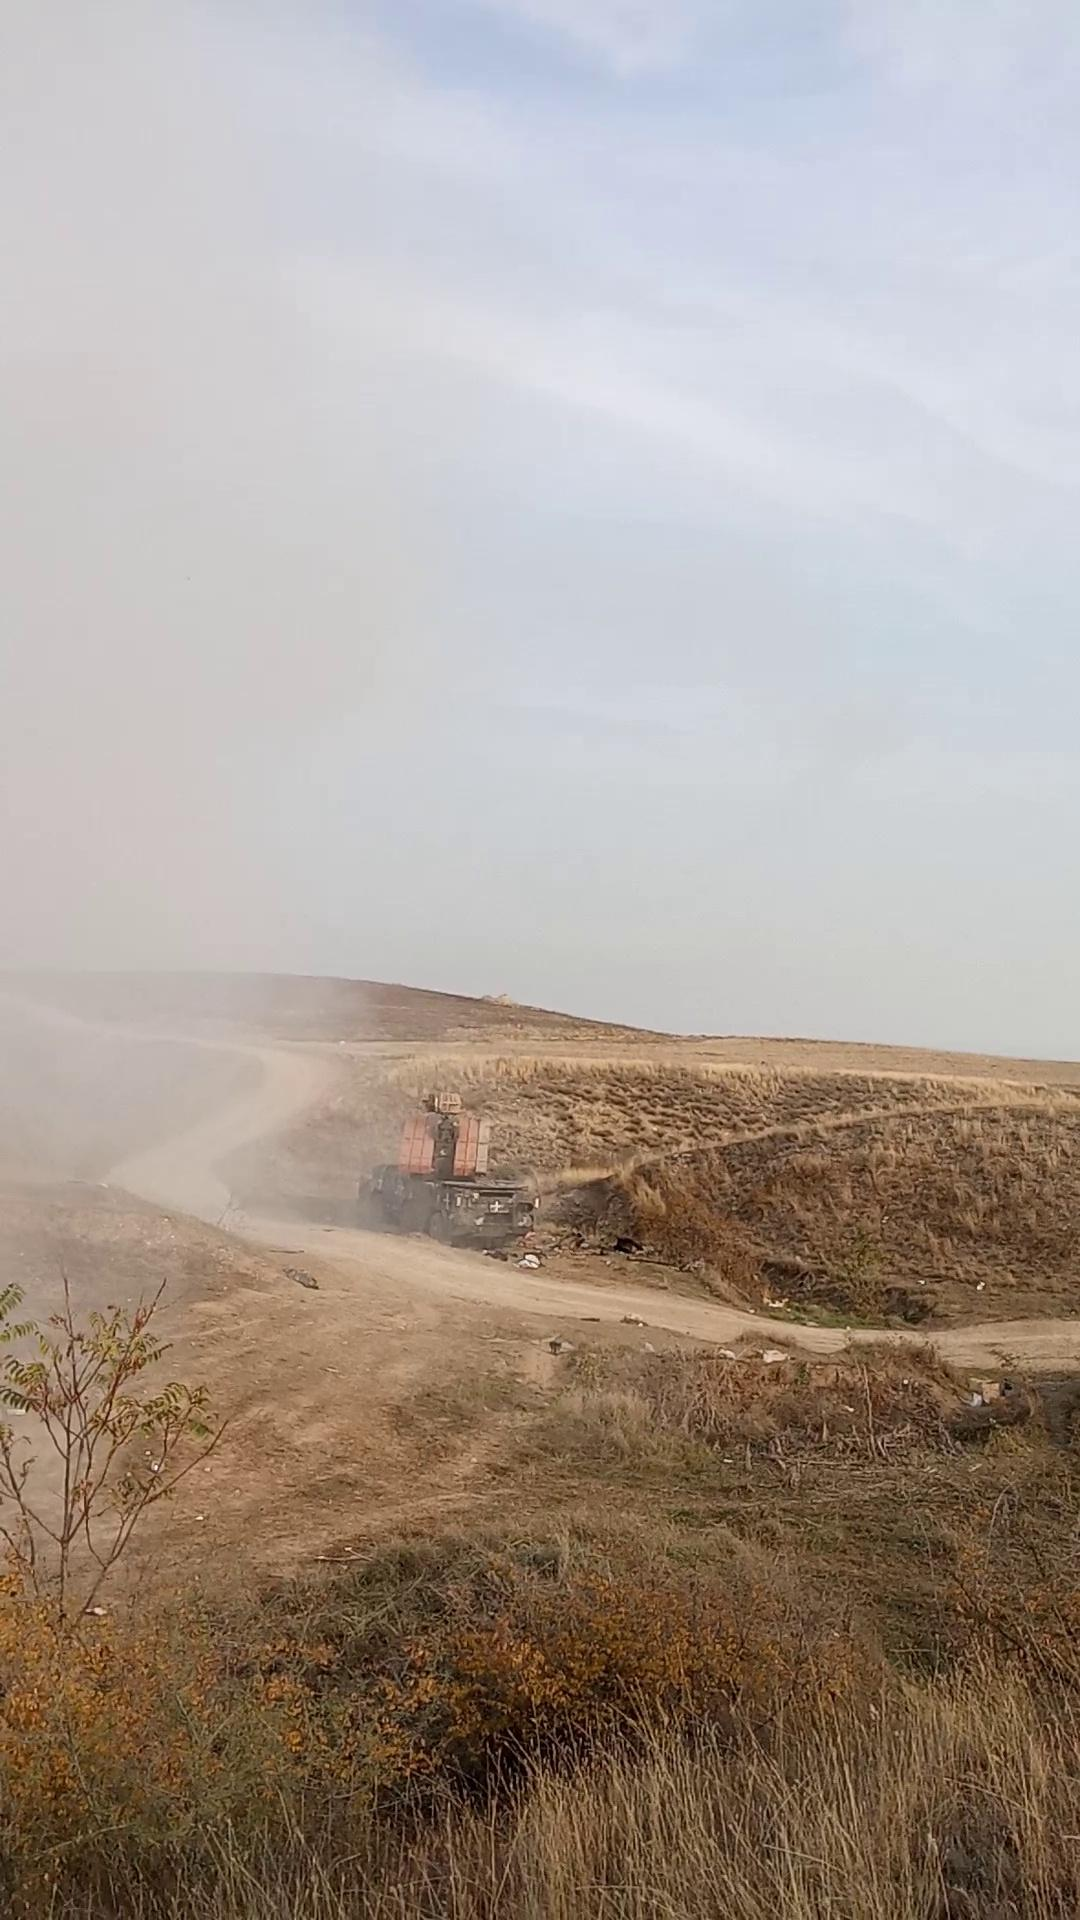MIL_SAM_TEL: (359, 1087, 543, 1253)
